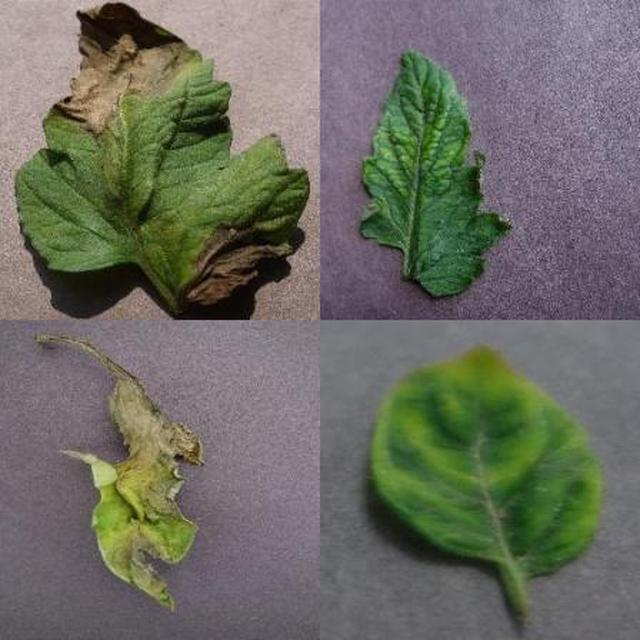Late Blight Leaf: (174, 221, 640, 640)
